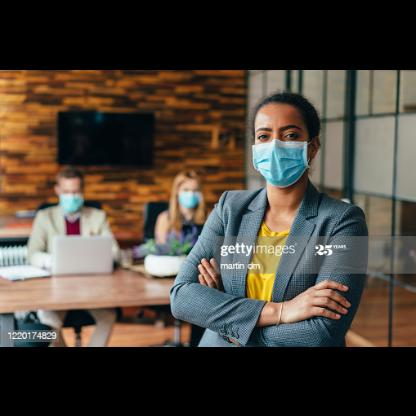Surgical Mask: (252, 90, 316, 186), (52, 164, 86, 214), (166, 167, 206, 207)
